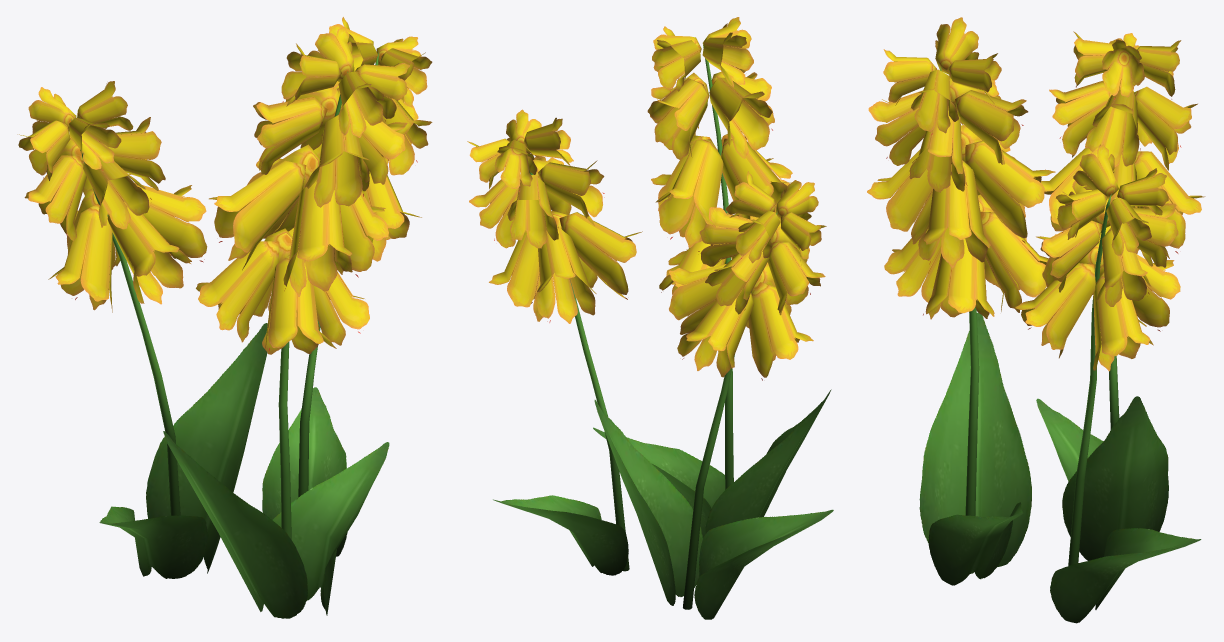
The model's file is flower_4_group.glb.
3 renders of one model, left to right at view 1: azimuth 30°, elevation 25°; view 2: azimuth 150°, elevation 25°; view 3: azimuth 270°, elevation 25°, orthographic. The views are drawn at different scales.
Visible parts, largest first — view 1: Flower_4_Group; view 2: Flower_4_Group; view 3: Flower_4_Group.
Boxes of the visible parts, left/top/right/bottom form: Flower_4_Group: left=17, top=17, right=432, bottom=618; Flower_4_Group: left=467, top=17, right=833, bottom=619; Flower_4_Group: left=867, top=17, right=1205, bottom=623.
Bounding box in the file's own units: 1.78 × 2.49 × 1.37.
Materials: 2 (2 with a texture image).
